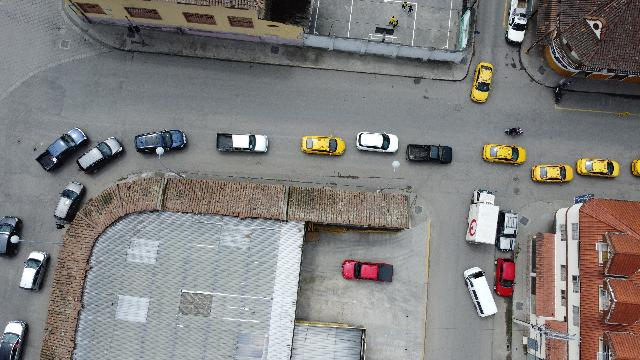Vehiculo: (36, 128, 88, 172), (77, 137, 123, 174), (463, 267, 497, 317), (134, 128, 186, 154), (341, 259, 394, 283), (54, 181, 85, 221), (20, 251, 50, 291), (0, 320, 28, 360), (216, 133, 268, 153), (497, 210, 519, 253), (406, 144, 452, 164), (471, 62, 493, 102), (0, 216, 22, 256), (301, 136, 345, 156), (482, 144, 526, 164), (576, 158, 620, 178), (356, 132, 398, 152), (494, 258, 516, 296), (532, 164, 572, 182), (505, 14, 527, 44)
